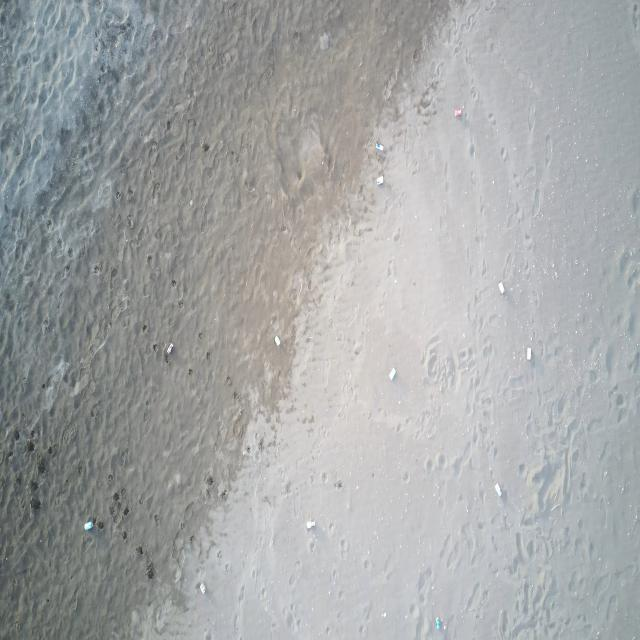tin-and-aluminum-cans: (198, 583, 209, 596), (494, 482, 502, 499), (84, 519, 94, 532), (389, 364, 396, 380), (307, 520, 317, 531), (376, 174, 384, 187), (166, 343, 175, 354), (455, 106, 462, 120), (274, 335, 281, 348), (526, 346, 532, 361), (498, 281, 504, 295), (434, 618, 441, 630), (376, 142, 384, 152)
